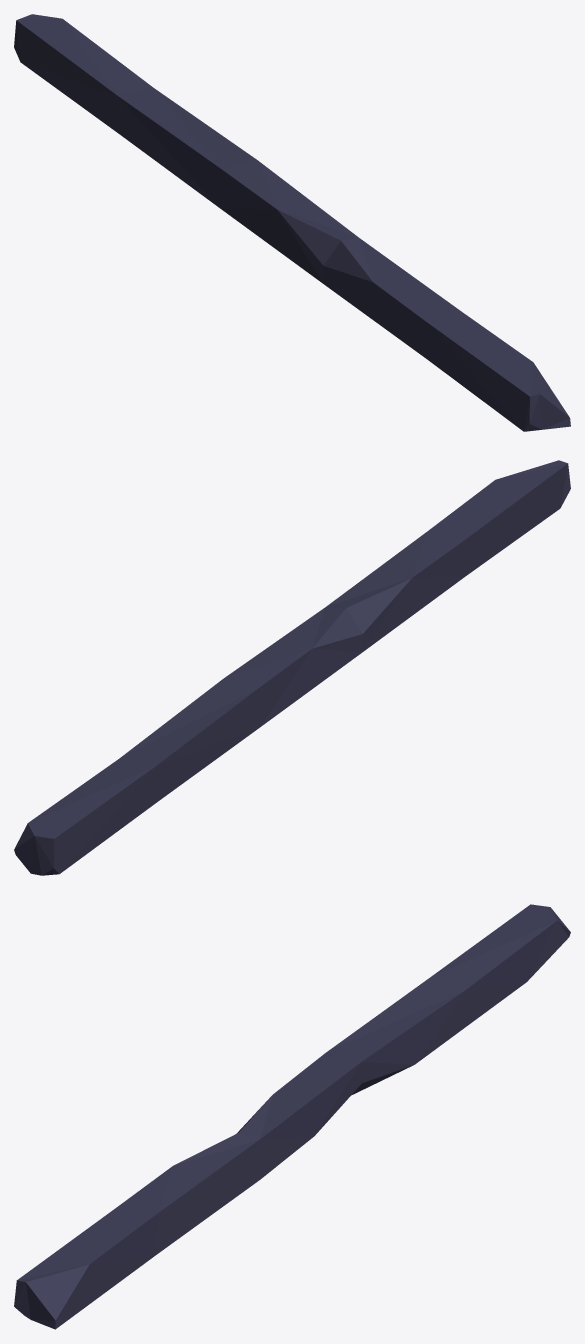
File: SFFA_Rod_004.fbx
3 views of the same model, one above another, from view 1: azimuth 30°, elevation 25°; view 2: azimuth 150°, elevation 25°; view 3: azimuth 330°, elevation 25° (orthographic).
Parts seen in each view (by area): view 1: SFFA_Rod_004; view 2: SFFA_Rod_004; view 3: SFFA_Rod_004.
Boxes of the visible parts, <box> form: SFFA_Rod_004: <box>14,14,570,431</box>; SFFA_Rod_004: <box>14,460,570,875</box>; SFFA_Rod_004: <box>14,904,570,1329</box>.
Size of the model in its own units: 4.76 by 4.61 by 103.
